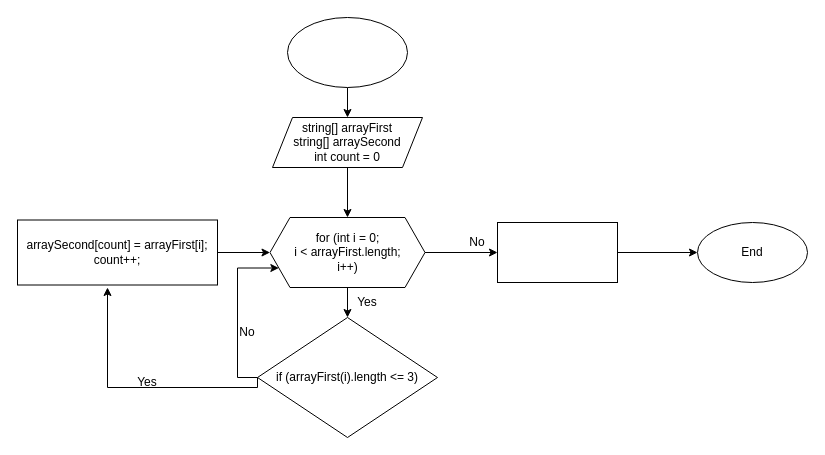
Some shapes in this 825 by 455 pixel diagram are drawn without their labels. Here are the shapes that lost their labels. From the top down, the centre of each, then its label:
At (x=347, y=52): "Start".
At (x=557, y=252): "PrintArray".
